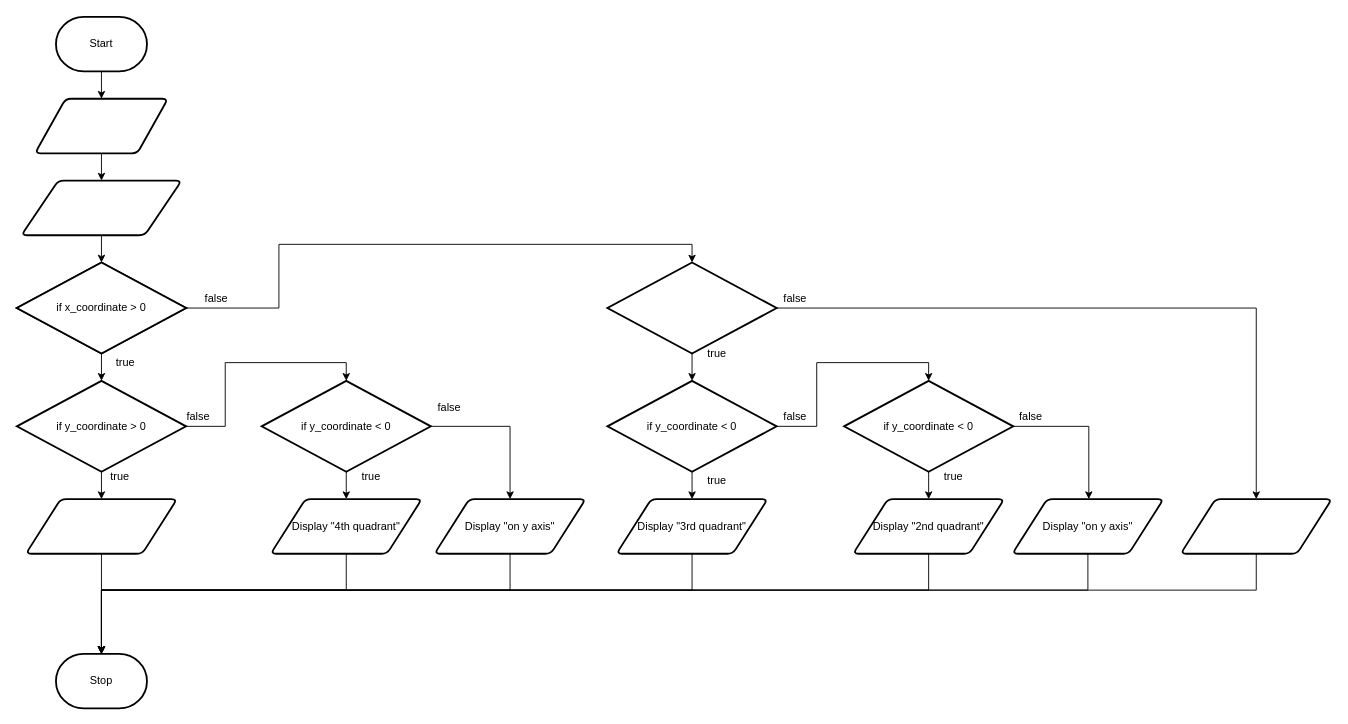
Image size: 1348x724. Some labels were removed from this diagram. The box of each missing label's shape, as (x1, y1, x2, y2) in pixels:
Display "1st quadrant": (25, 498, 177, 554)
Display "on x axis": (1179, 498, 1332, 554)
Get x_coordinate: (34, 97, 168, 154)
Get y_coordinate: (20, 179, 182, 236)
if x_coordinate < 0: (606, 261, 777, 354)
